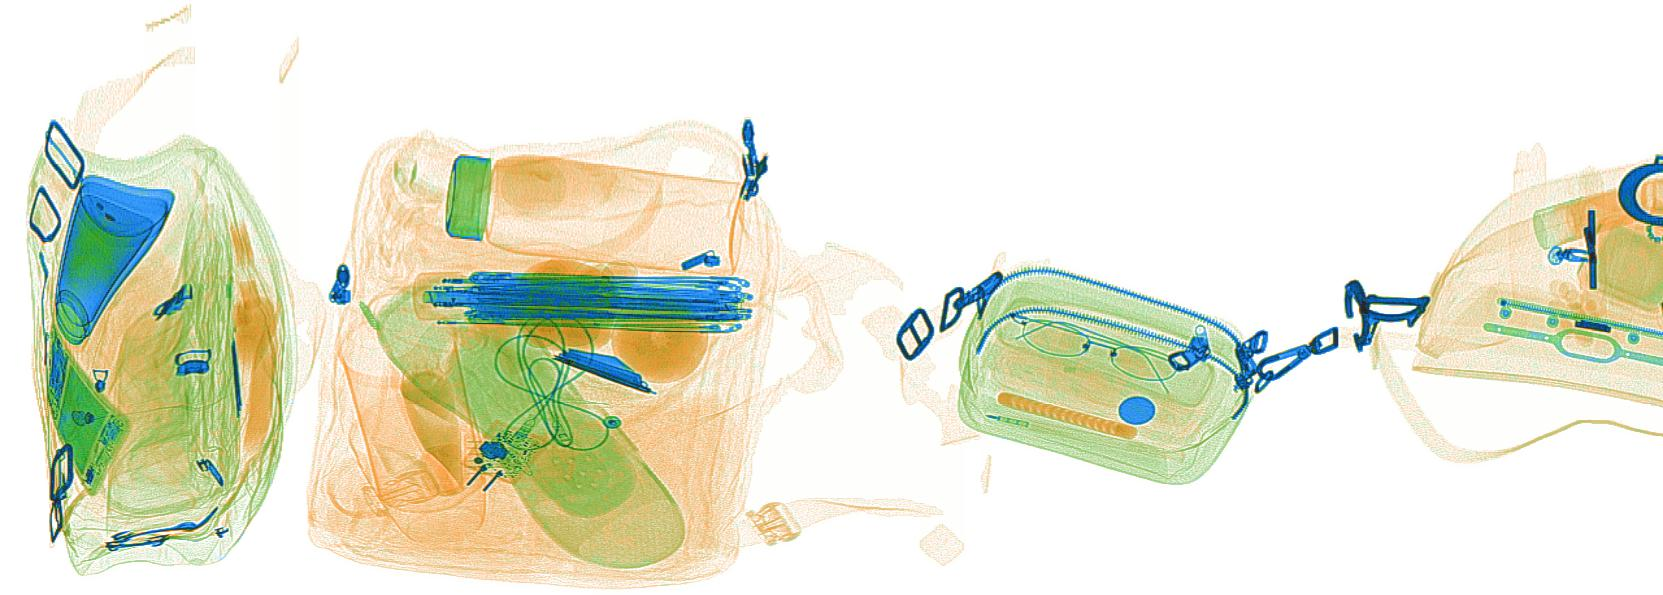knife: (552, 345, 657, 398)
